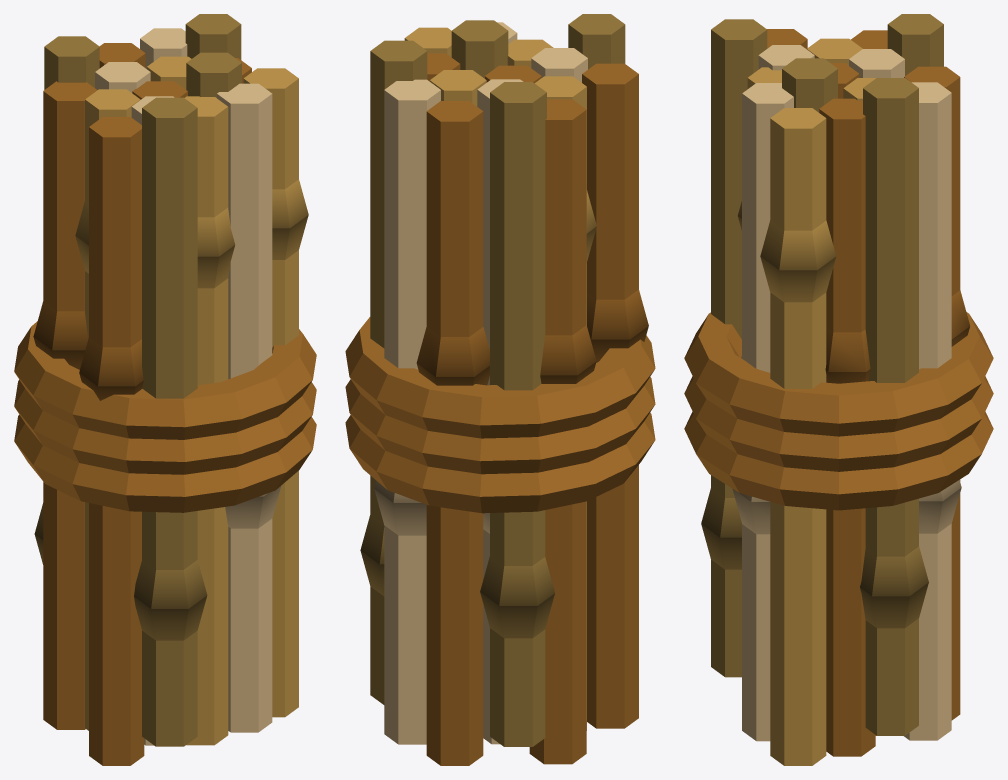
Rendered from straw.glb.
3 renders of one model, left to right at view 1: azimuth 30°, elevation 25°; view 2: azimuth 150°, elevation 25°; view 3: azimuth 270°, elevation 25°, orthographic. The views are drawn at different scales.
Visible parts, largest first — view 1: Straw; view 2: Straw; view 3: Straw.
Boxes of the visible parts, x1,y1,x2,y2 form: Straw: (14, 14, 316, 765); Straw: (345, 14, 655, 765); Straw: (684, 14, 993, 765).
Bounding box in the file's own units: 0.22 × 0.5204 × 0.22.
